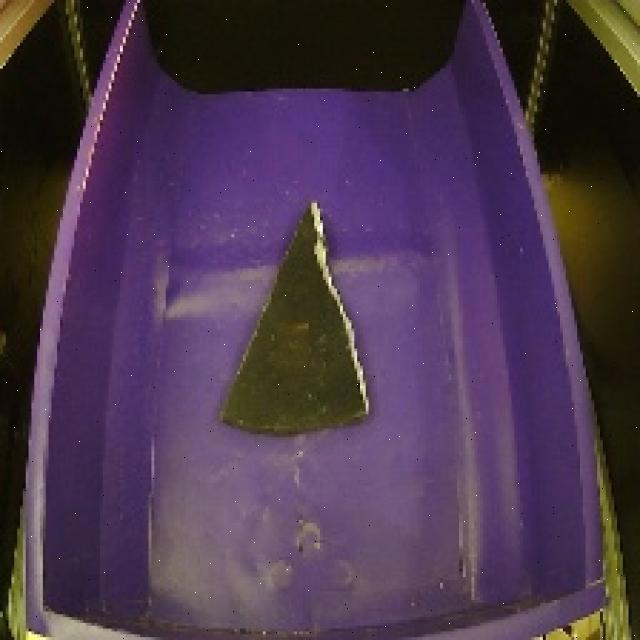china: (206, 191, 380, 445)
